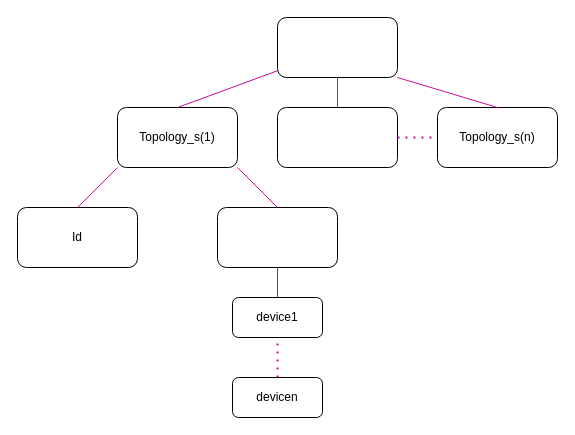
Some shapes in this 575 by 435 pixel diagram are drawn without their labels. Each missing label, with the centre of its shape:
DeviceList: point (277, 237)
Topology_s(2): point (337, 137)
TopologyList: point (337, 47)
